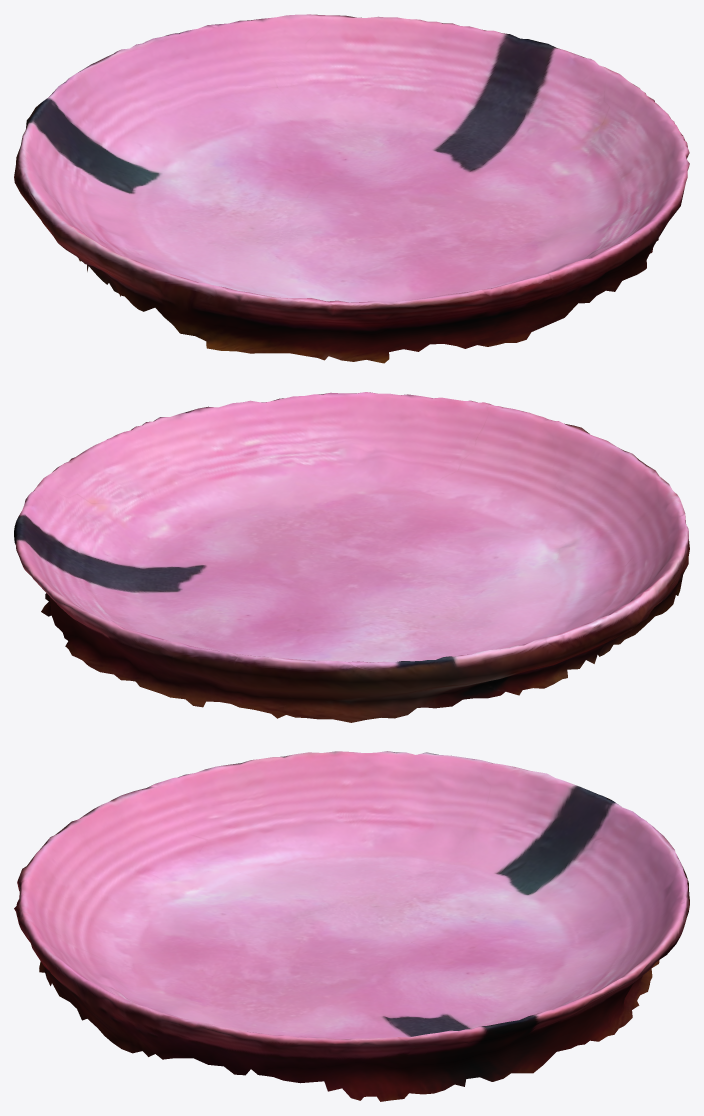
3 renders of one model, top to bottom at view 1: azimuth 30°, elevation 25°; view 2: azimuth 150°, elevation 25°; view 3: azimuth 270°, elevation 25°, orthographic.
Visible parts, largest first — view 1: AR-Code-Object-Capture-app-1758578309; view 2: AR-Code-Object-Capture-app-1758578309; view 3: AR-Code-Object-Capture-app-1758578309.
Part boxes in pixels (x1,y1,x2,y2): AR-Code-Object-Capture-app-1758578309: (14,14,689,363); AR-Code-Object-Capture-app-1758578309: (14,392,689,722); AR-Code-Object-Capture-app-1758578309: (14,751,689,1101).
Bounding box in the file's own units: 0.2806 × 0.0424 × 0.2813.
1 material, 1 textured.
